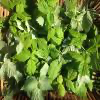Raspberry leaf: (38, 75, 57, 92), (47, 59, 62, 80), (21, 75, 39, 92), (24, 59, 36, 75), (18, 47, 30, 62), (36, 36, 48, 50), (79, 61, 89, 77), (49, 46, 62, 58), (67, 27, 80, 39), (6, 62, 17, 76), (68, 51, 83, 61), (69, 37, 83, 46), (51, 36, 63, 46), (55, 26, 64, 38), (3, 51, 12, 63), (48, 26, 55, 40), (25, 36, 32, 49), (82, 52, 89, 62), (32, 38, 38, 48), (80, 32, 87, 39)
